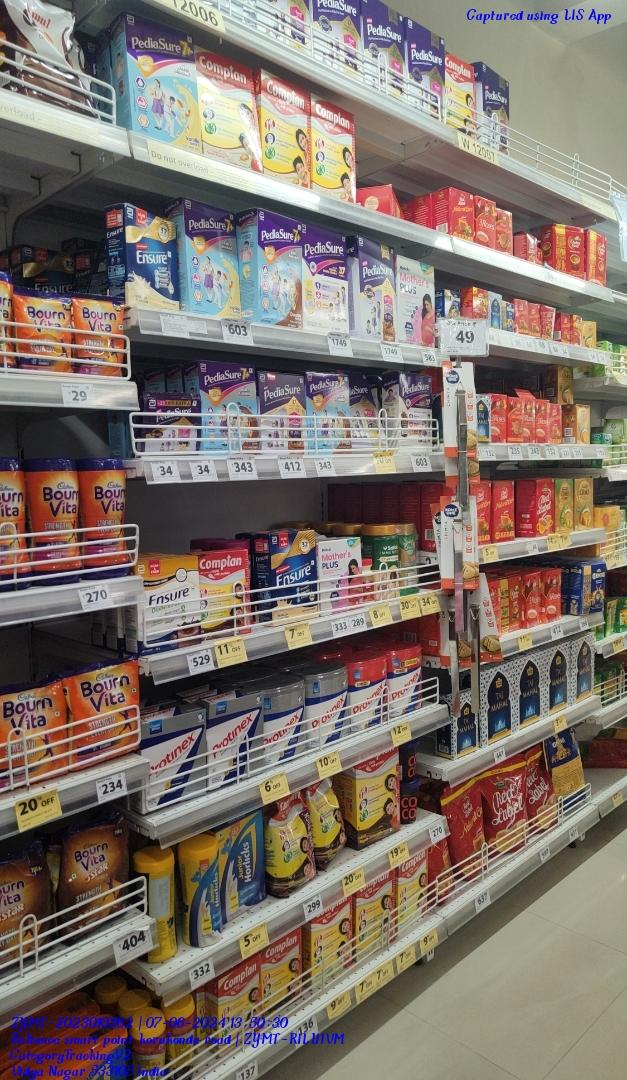BOURN_VITA_FIVE_STAR_MAGIC_500_G_POUCH: (53, 835, 126, 932), (0, 849, 46, 972)
HORLICKS_JUNIOR_VANILLA_500_GM_JAR: (185, 841, 217, 936)
PEDIASURE_7_PLUS_CHOCOLATE_400_G_PACK: (200, 367, 255, 452), (312, 374, 349, 448)
PEDIASURE_CHOCOLATE_500_G_PACK: (355, 237, 398, 340), (407, 15, 444, 119), (260, 372, 305, 451), (395, 372, 434, 447), (477, 62, 509, 152)
PEDIASURE_VANILLA_500_G_PACK: (255, 212, 302, 328), (301, 234, 347, 329), (361, 0, 405, 94), (310, 0, 362, 78)
PROTINEX_CHOCOLATE_400_G_JAR: (350, 655, 387, 732), (390, 645, 423, 713)
PROTINEX_ORIGINAL_400_G_JAR: (264, 681, 306, 764), (309, 668, 341, 747)
